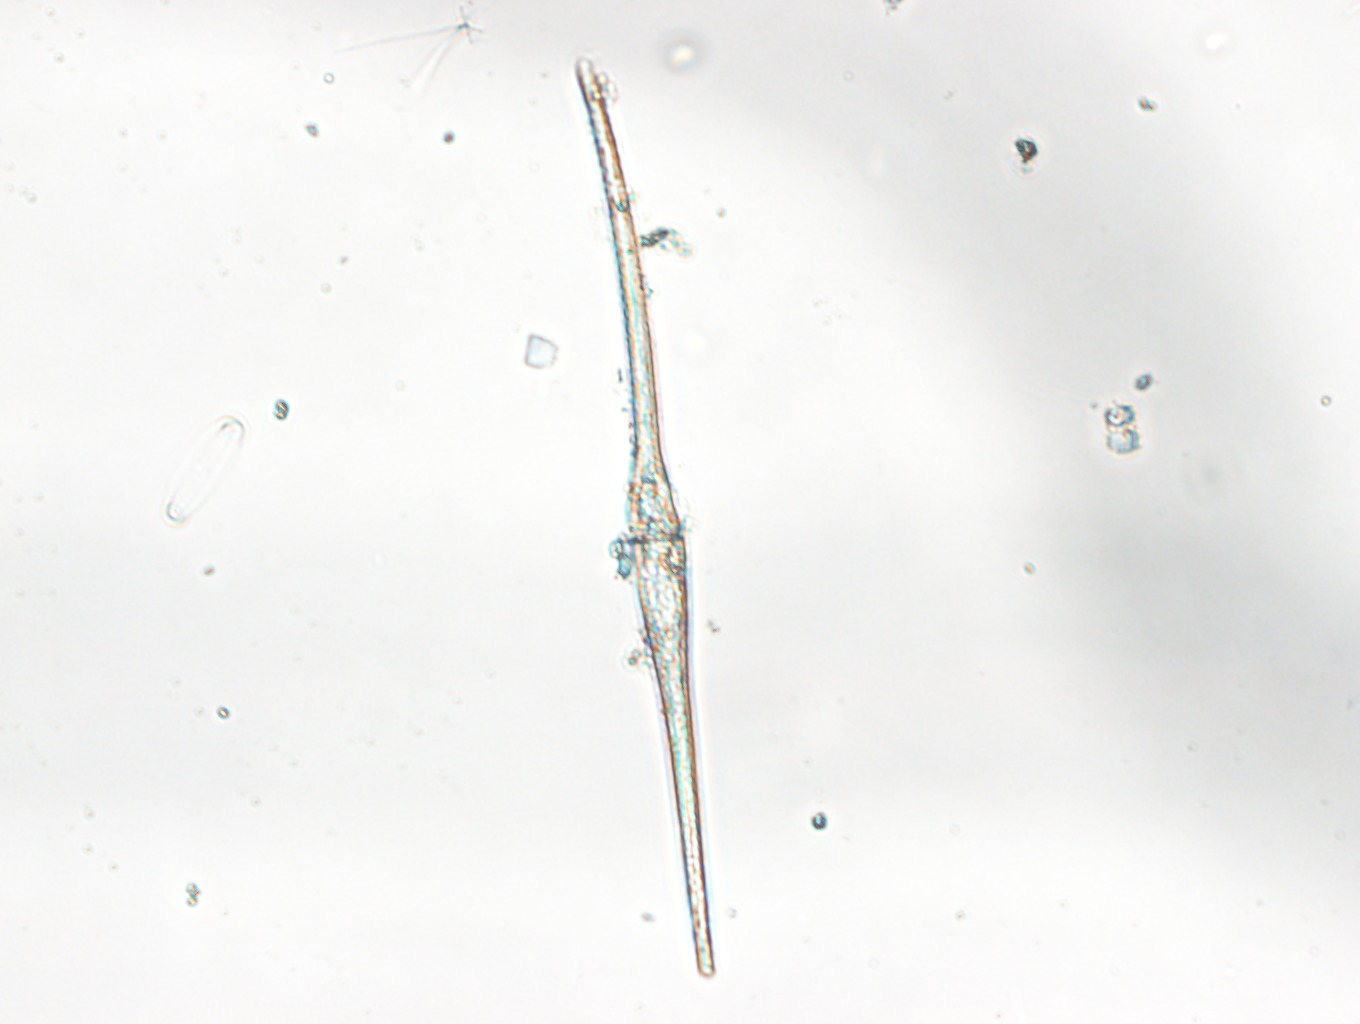ceratium fusus: (573, 56, 715, 979)
